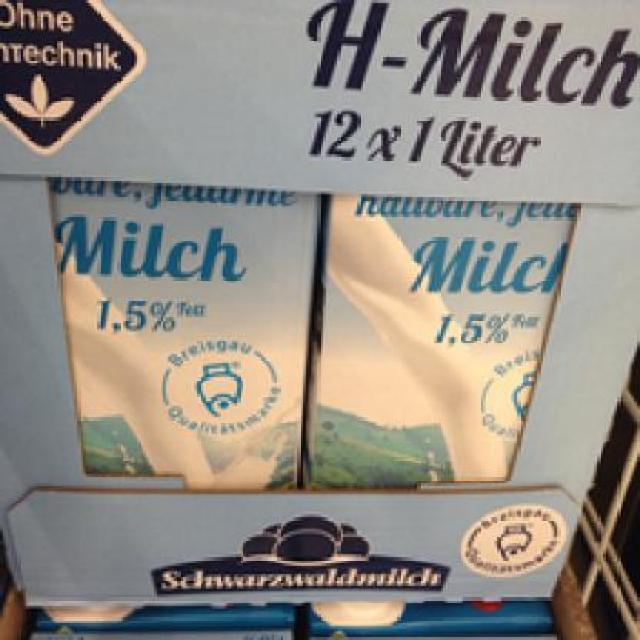Milk: (306, 188, 574, 508), (48, 174, 312, 483)
